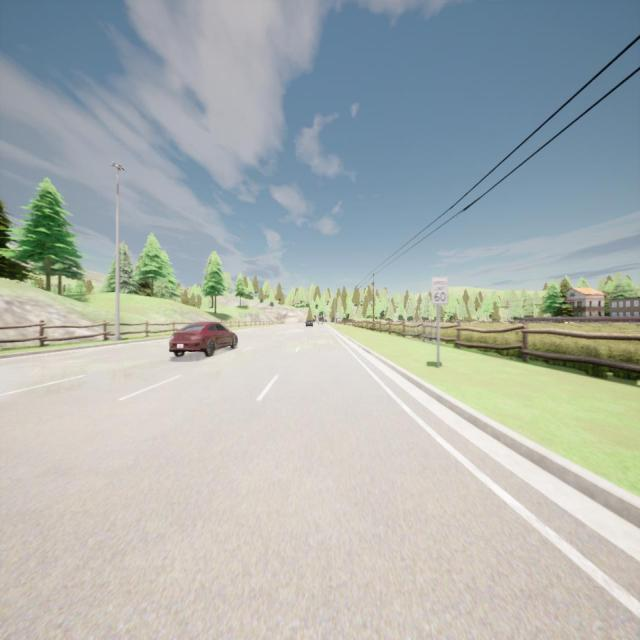Traffic_Signs: (432, 278, 448, 305)
Vehicle: (168, 321, 239, 358), (305, 320, 313, 326)
